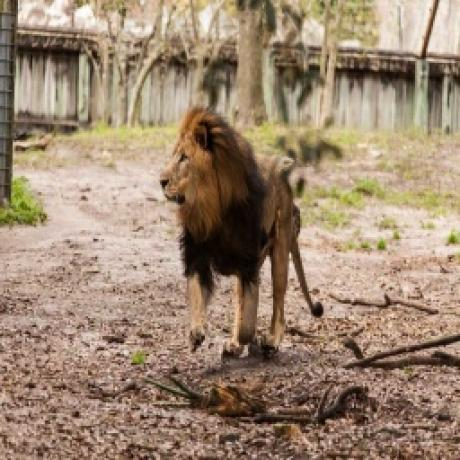Lion: (156, 103, 327, 357)
